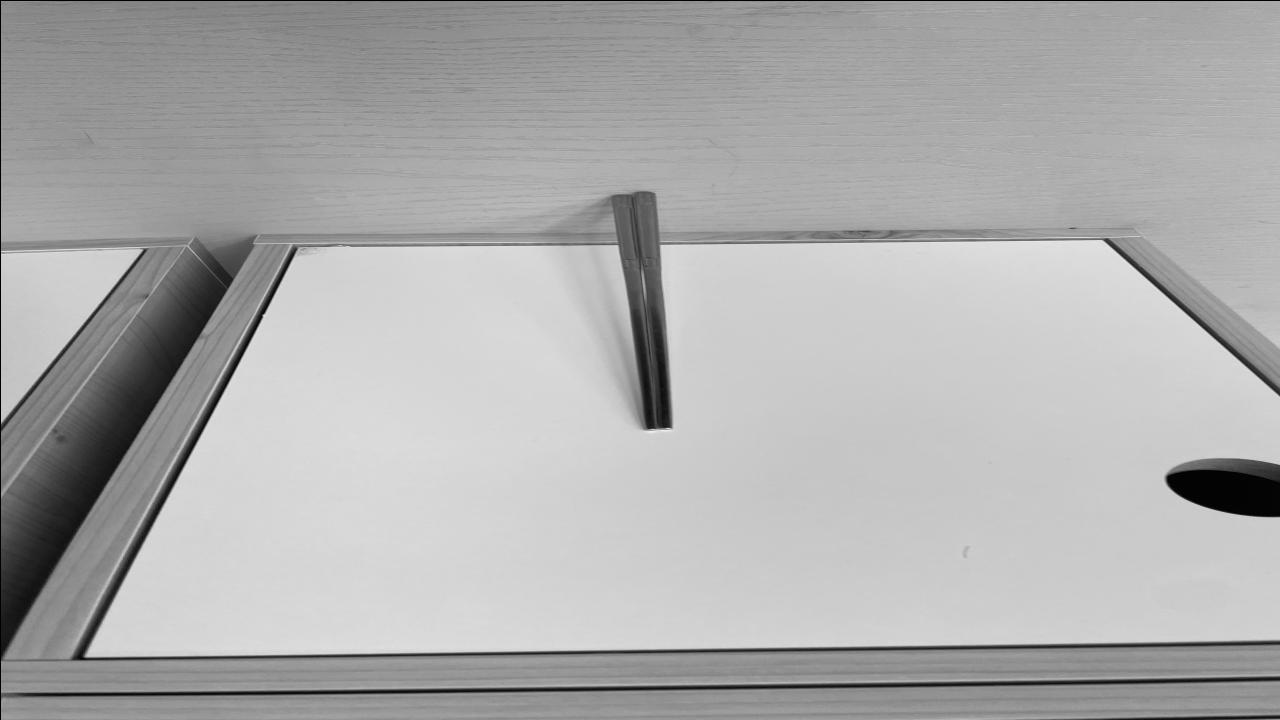chopstick: (605, 192, 675, 430)
